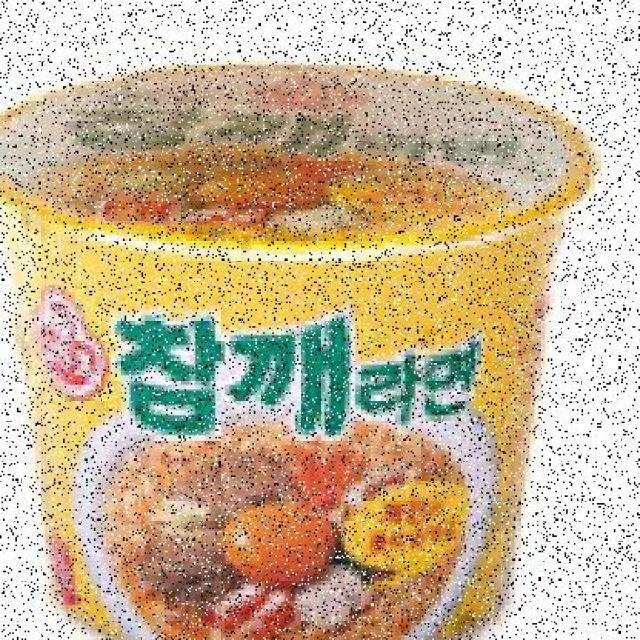Miscellaneous: (0, 75, 595, 639)
